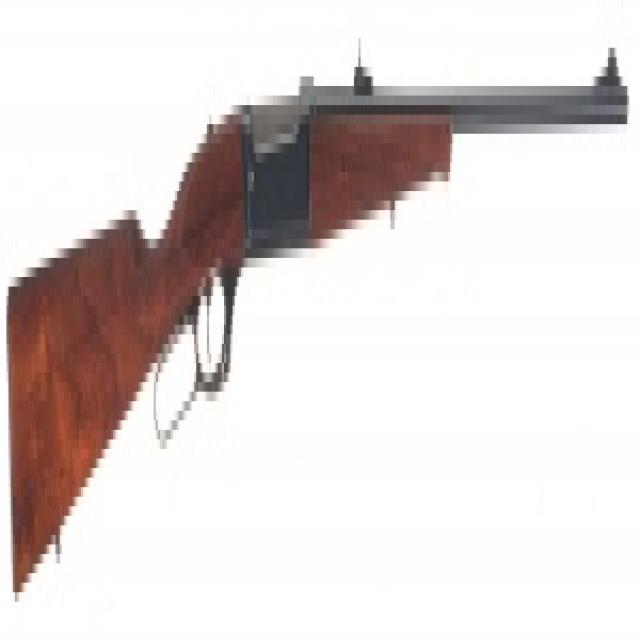rifle: (7, 40, 630, 602)
